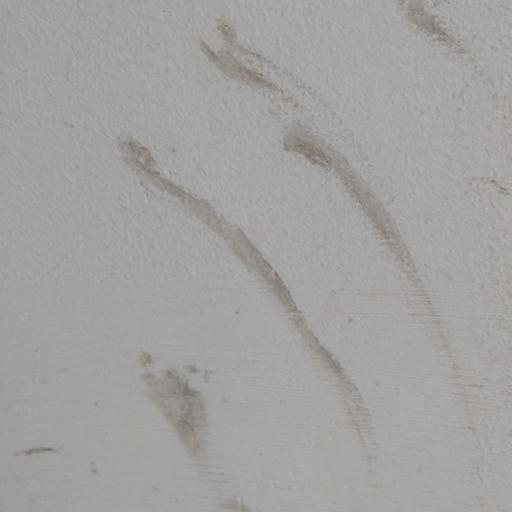stain: (106, 12, 512, 512)
